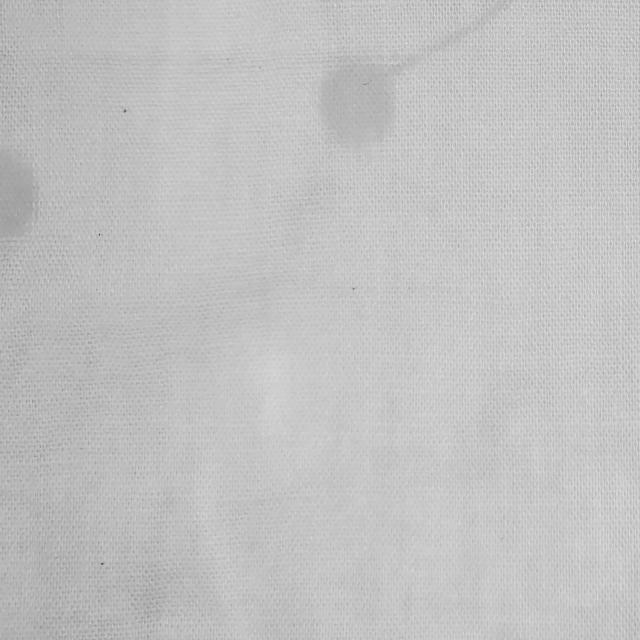Stain: (319, 0, 507, 150), (0, 149, 36, 237)
